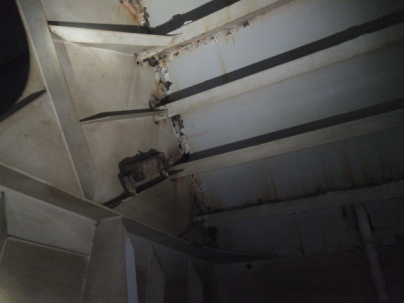corrosion: (139, 49, 179, 104), (118, 1, 153, 30), (169, 112, 190, 157), (186, 184, 212, 213), (227, 18, 255, 37)
